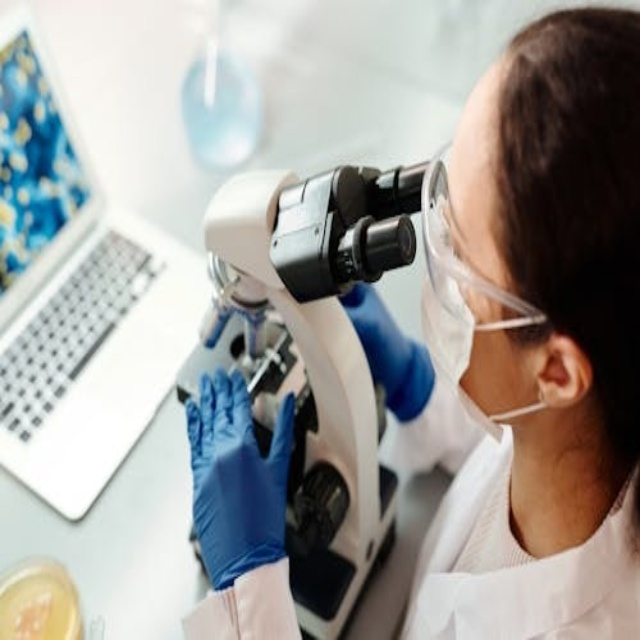Gafas: (422, 145, 553, 335)
Guantes: (183, 356, 293, 573), (338, 277, 430, 423)
Mascara: (419, 157, 541, 438)
